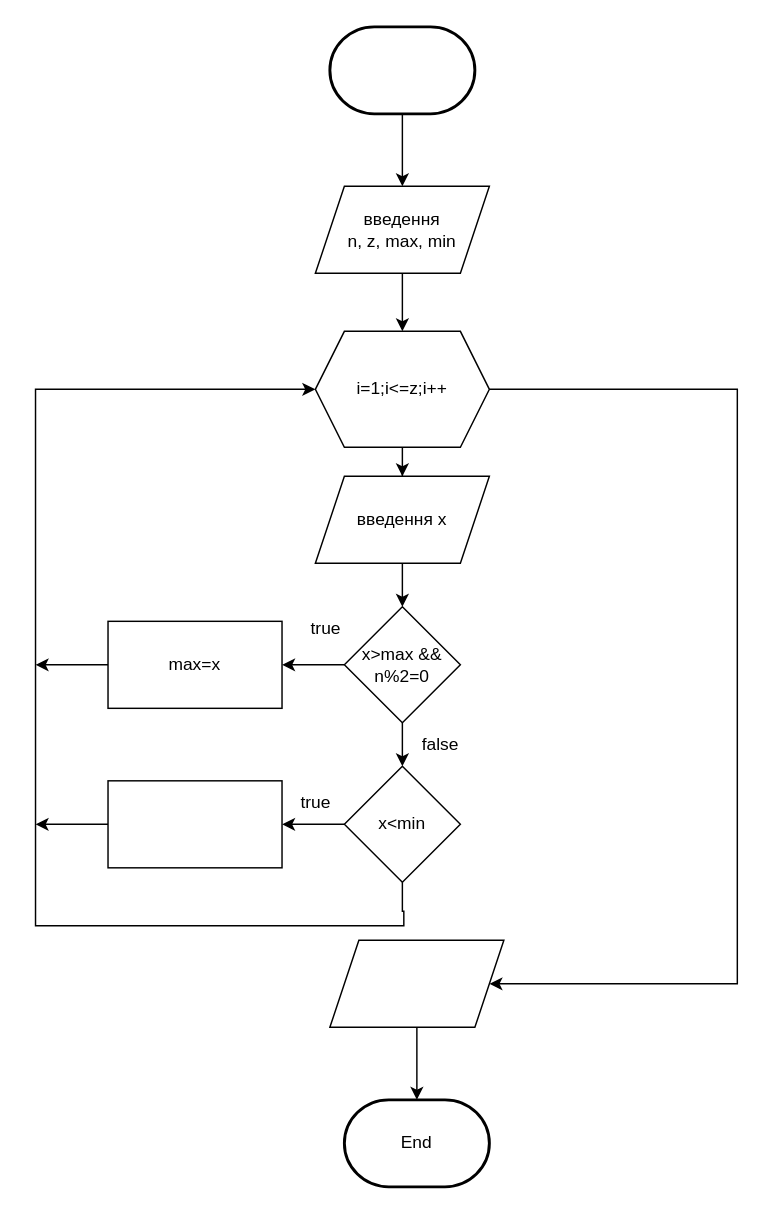
Image size: 774x1212. Some labels were removed from this diagram. Here are the shapes that lost their labels. From the top down, the centre of each, then its label:
(402,70): Start
(194,823): min=x
(416,983): виведення min, max
